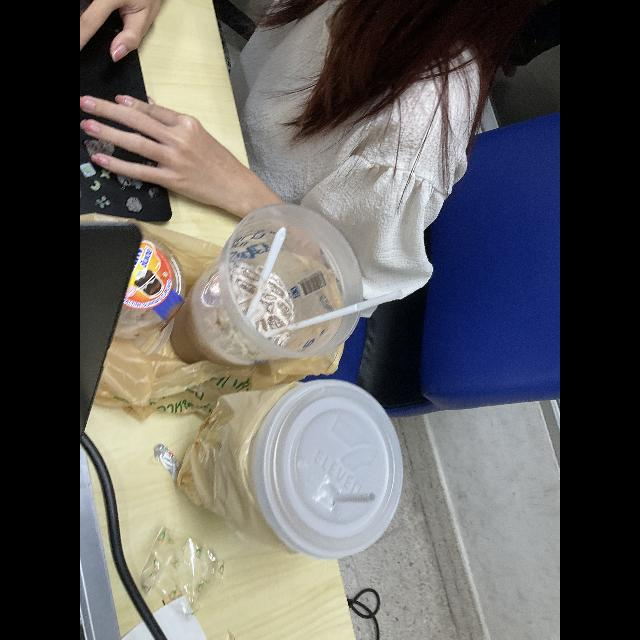plastic_bag: (81, 210, 347, 416)
plastic_cultery: (242, 228, 288, 334)
plastic_cup: (167, 202, 365, 370), (178, 378, 312, 558), (104, 227, 182, 339)
plastic_cup_lid: (255, 374, 401, 562)
scrap_paper: (111, 594, 212, 640)
scrap_plastic: (140, 524, 228, 618), (152, 442, 188, 480)
straw: (263, 288, 403, 340), (328, 485, 380, 513)
